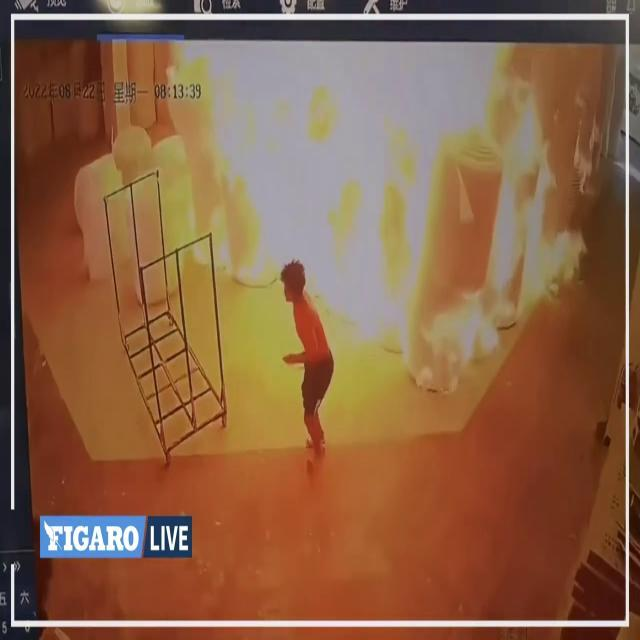Fire: (158, 41, 576, 369)
